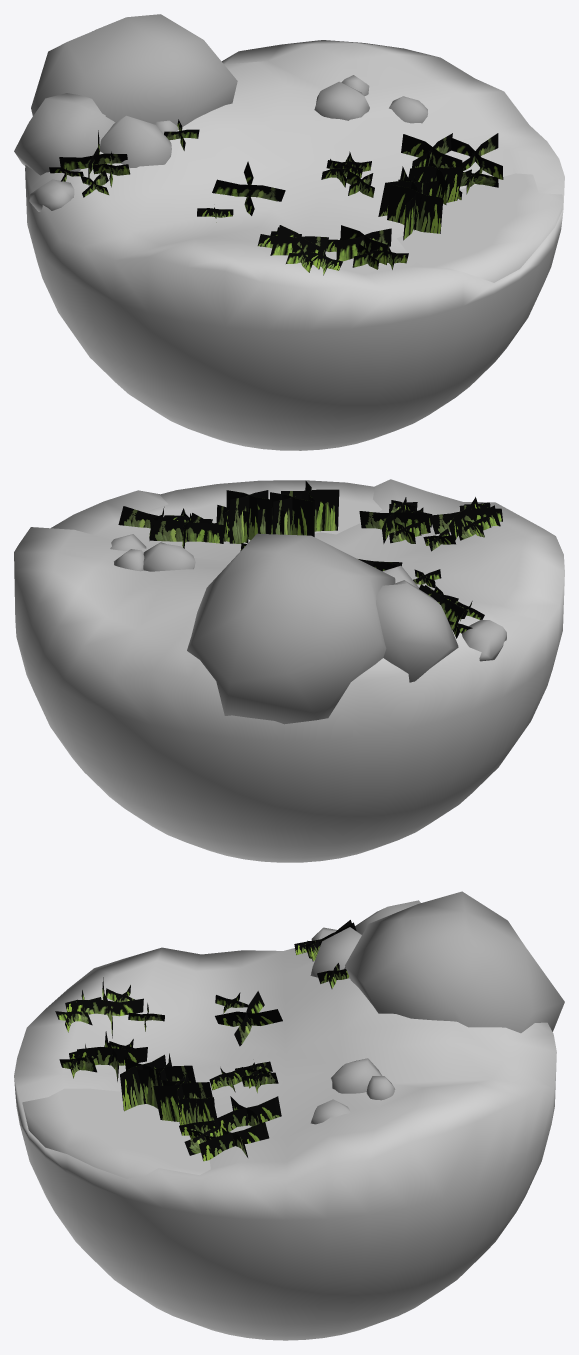
Rendered from Watercolour Test Base.fbx.
3 renders of one model, top to bottom at view 1: azimuth 30°, elevation 25°; view 2: azimuth 150°, elevation 25°; view 3: azimuth 270°, elevation 25°, orthographic. The views are drawn at different scales.
Parts seen in each view (by area): view 1: Base, Rock, Water, Rock1, Rock2, Grass27, Grass_Bundle_A, Grass_Bundle_A_Vertexnormals, Grass_Bundle_B, Rock4, Grass22, Grass29 (+5 smaller); view 2: Base, Rock, Rock1, Water, Grass_Bundle_A, Grass_Bundle_A_Vertexnormals, Grass29, Grass28, Grass22, Grass27, Rock7, Rock4 (+4 smaller); view 3: Base, Rock, Water, Grass_Bundle_A_Vertexnormals, Grass_Bundle_A, Grass27, Grass29, Grass22, Rock2, Grass19, Grass23, Rock4 (+4 smaller).
Part boxes in pixels (left/top/right/bottom): Base: left=25, top=40, right=564, bottom=450; Rock: left=31, top=14, right=237, bottom=126; Water: left=397, top=173, right=563, bottom=282; Rock1: left=14, top=93, right=115, bottom=175; Rock2: left=99, top=115, right=171, bottom=167; Grass27: left=387, top=179, right=443, bottom=240; Grass_Bundle_A: left=326, top=225, right=408, bottom=269; Grass_Bundle_A_Vertexnormals: left=257, top=225, right=342, bottom=275; Grass_Bundle_B: left=49, top=130, right=130, bottom=197; Rock4: left=314, top=81, right=369, bottom=120; Grass22: left=401, top=133, right=462, bottom=168; Grass29: left=408, top=152, right=463, bottom=203; Base: left=14, top=479, right=564, bottom=862; Rock: left=187, top=533, right=395, bottom=724; Rock1: left=376, top=580, right=458, bottom=682; Water: left=144, top=480, right=382, bottom=543; Grass_Bundle_A: left=359, top=497, right=432, bottom=543; Grass_Bundle_A_Vertexnormals: left=429, top=497, right=502, bottom=540; Grass29: left=226, top=490, right=271, bottom=543; Grass28: left=270, top=492, right=314, bottom=536; Grass22: left=150, top=513, right=224, bottom=548; Grass27: left=280, top=481, right=339, bottom=531; Rock7: left=462, top=619, right=506, bottom=661; Rock4: left=143, top=542, right=195, bottom=571; Base: left=14, top=947, right=556, bottom=1340; Rock: left=345, top=891, right=564, bottom=1033; Water: left=22, top=1088, right=210, bottom=1178; Grass_Bundle_A_Vertexnormals: left=55, top=977, right=143, bottom=1038; Grass_Bundle_A: left=59, top=1031, right=147, bottom=1081; Grass27: left=120, top=1054, right=165, bottom=1111; Grass29: left=153, top=1070, right=216, bottom=1124; Grass22: left=214, top=1096, right=281, bottom=1136; Rock2: left=310, top=927, right=361, bottom=977; Grass19: left=215, top=991, right=282, bottom=1046; Grass23: left=199, top=1122, right=269, bottom=1161; Rock4: left=331, top=1058, right=382, bottom=1093.
Bounding box in the file's own units: 200 × 147 × 202.
